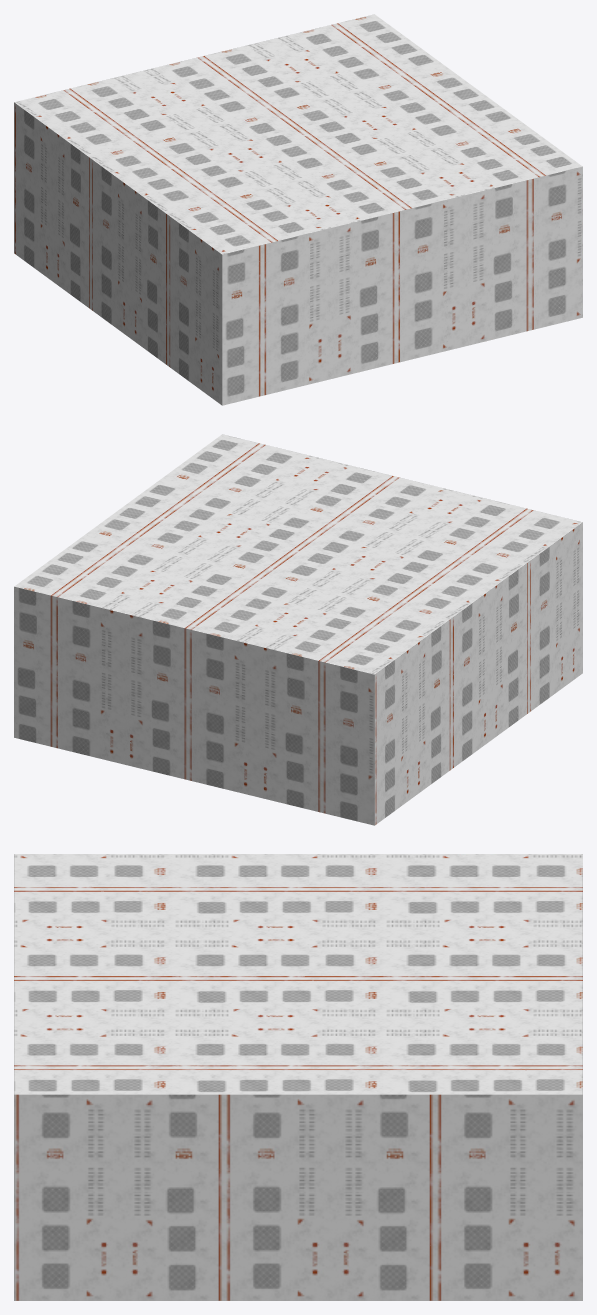
Rendered from Room.glb.
The picture shows the model from 3 angles, top to bottom: view 1: azimuth 30°, elevation 25°; view 2: azimuth 150°, elevation 25°; view 3: azimuth 270°, elevation 25°; orthographic projection. The views are drawn at different scales.
Parts seen in each view (by area): view 1: Room; view 2: Room; view 3: Room.
Part boxes in pixels (left/top/right/bottom): Room: left=14, top=14, right=582, bottom=405; Room: left=14, top=434, right=582, bottom=825; Room: left=14, top=854, right=582, bottom=1300.
Size of the model in its own units: 10 by 4 by 10.
1 material, 1 textured.
